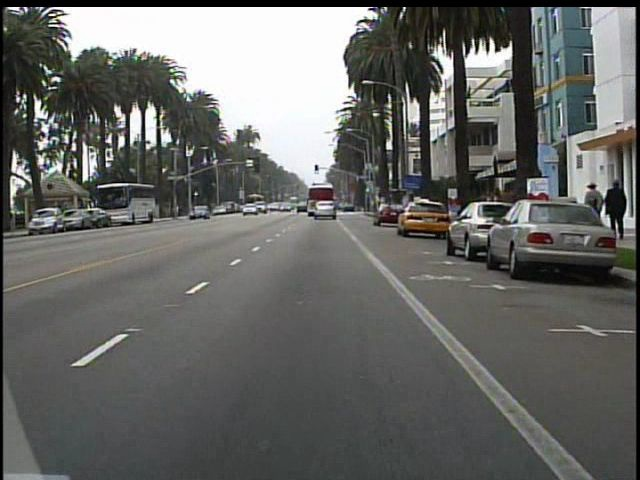person: (580, 178, 603, 240), (603, 174, 628, 227)
